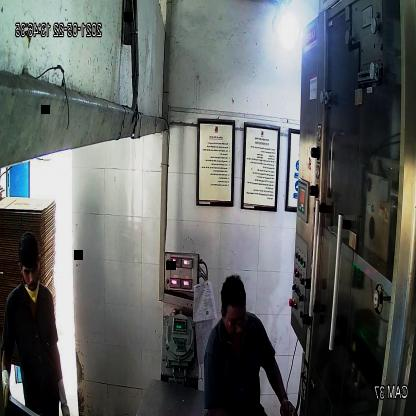goggles: (223, 310, 251, 332)
no_goggles: (20, 259, 42, 280)
